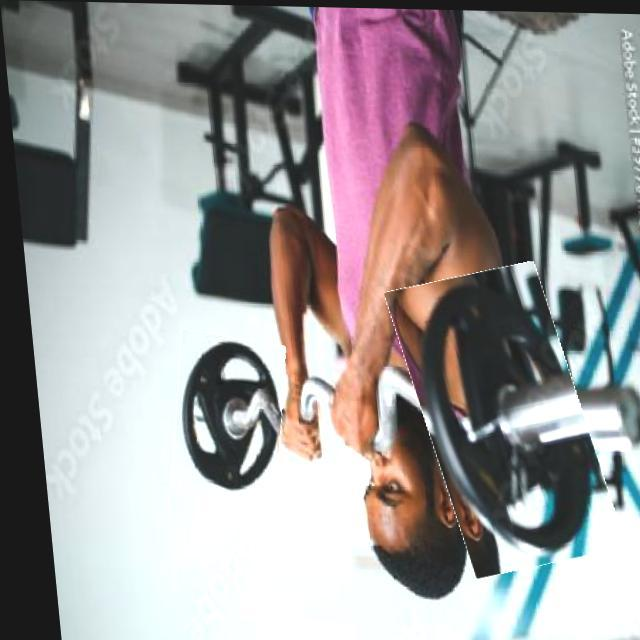barbell: (392, 264, 603, 573), (157, 332, 286, 503)
